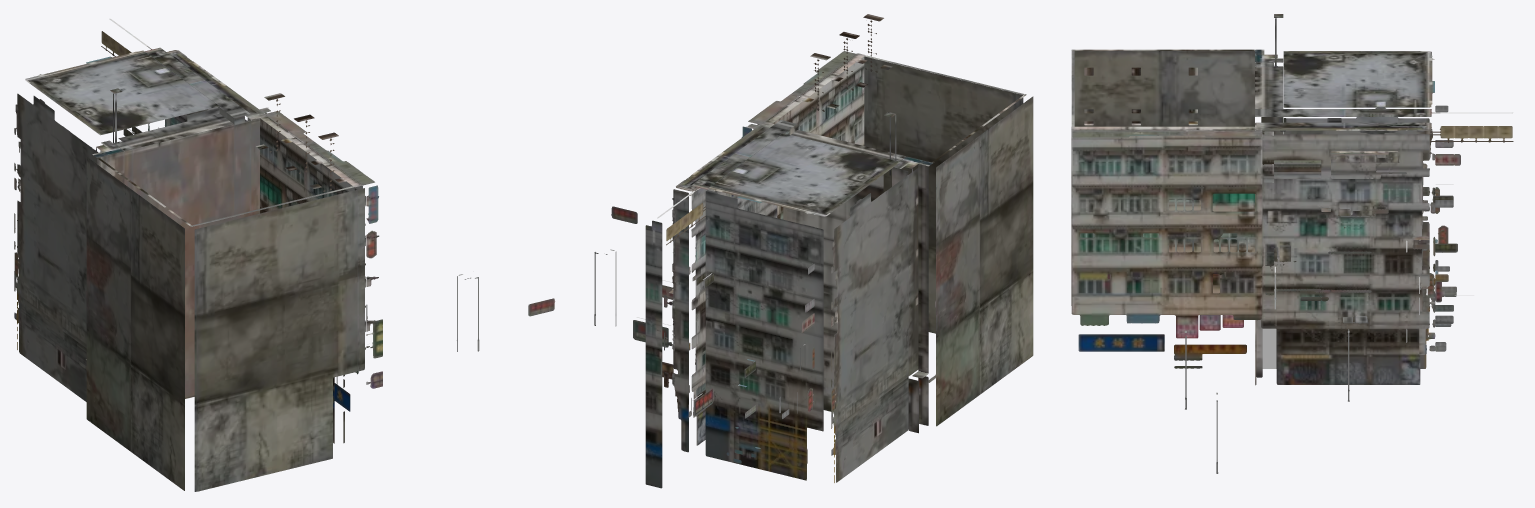
The model's file is block-hkiv-0-imp.glb.
3 views of the same model, side by side, from view 1: azimuth 30°, elevation 25°; view 2: azimuth 150°, elevation 25°; view 3: azimuth 270°, elevation 25° (orthographic). The views are drawn at different scales.
Parts seen in each view (by area): view 1: block-hkiv-0-imp; view 2: block-hkiv-0-imp; view 3: block-hkiv-0-imp.
Boxes of the visible parts, bbox=[...] form: block-hkiv-0-imp: bbox=[14, 19, 555, 491]; block-hkiv-0-imp: bbox=[594, 14, 1033, 488]; block-hkiv-0-imp: bbox=[1071, 14, 1513, 473].
Bounding box in the file's own units: 72 × 52.97 × 72.
1 material, 1 textured.
